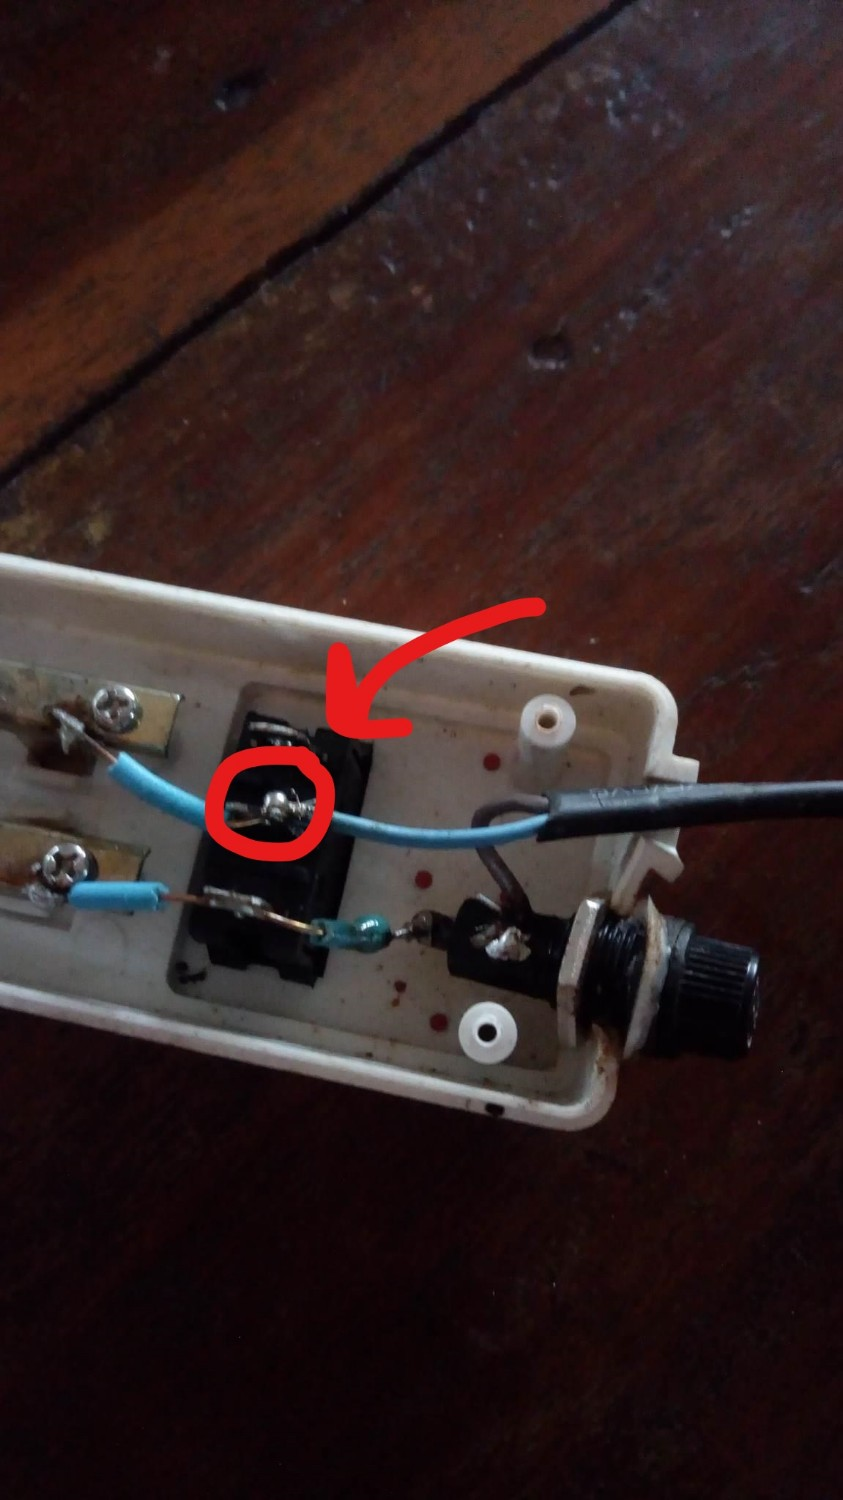Three_eye_plug: (1, 538, 736, 1151)
